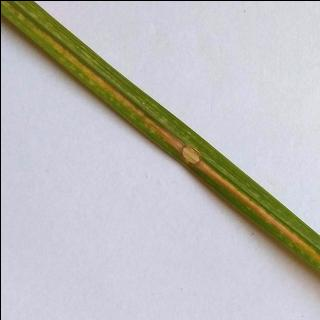Blast: (179, 136, 209, 174)
